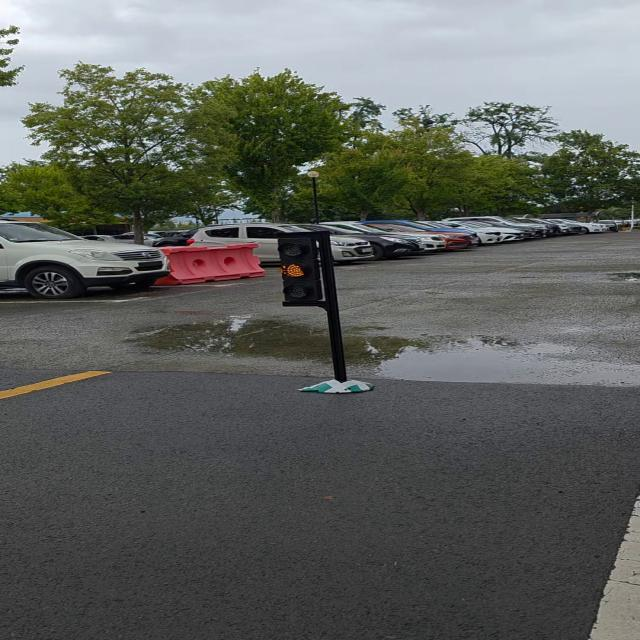yellow: (271, 235, 332, 303)
